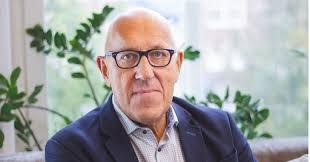Persons: (100, 8, 193, 126)
